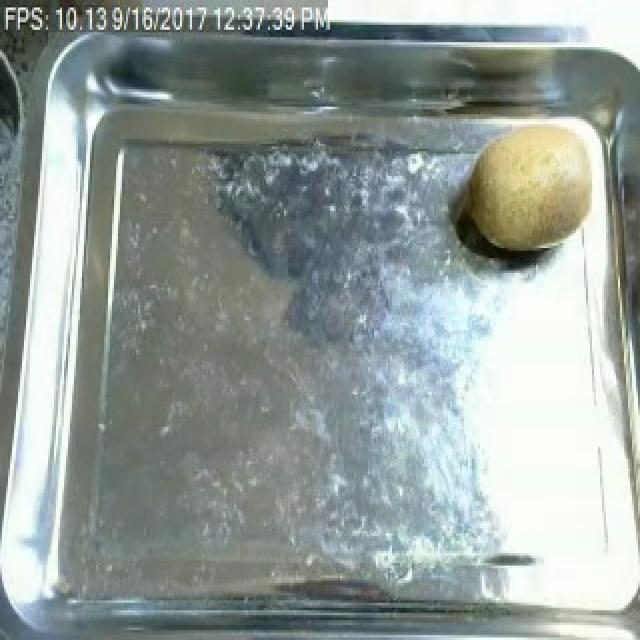Fruit: (460, 107, 620, 263)
